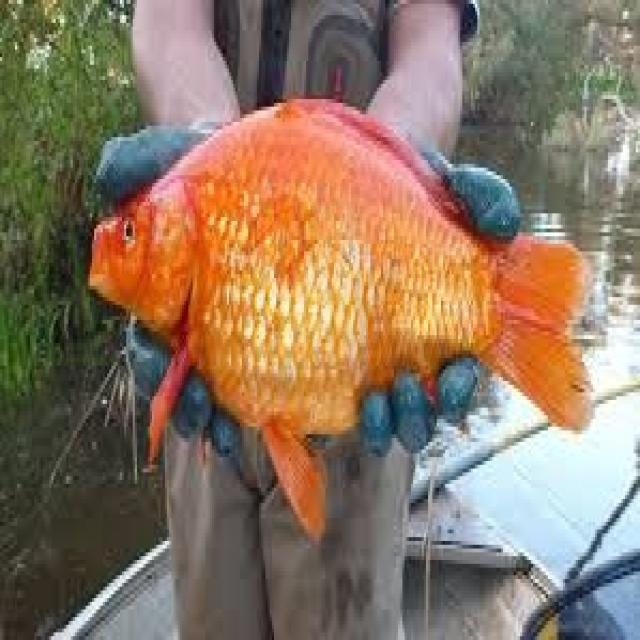Gold-Fish: (95, 47, 640, 537)
